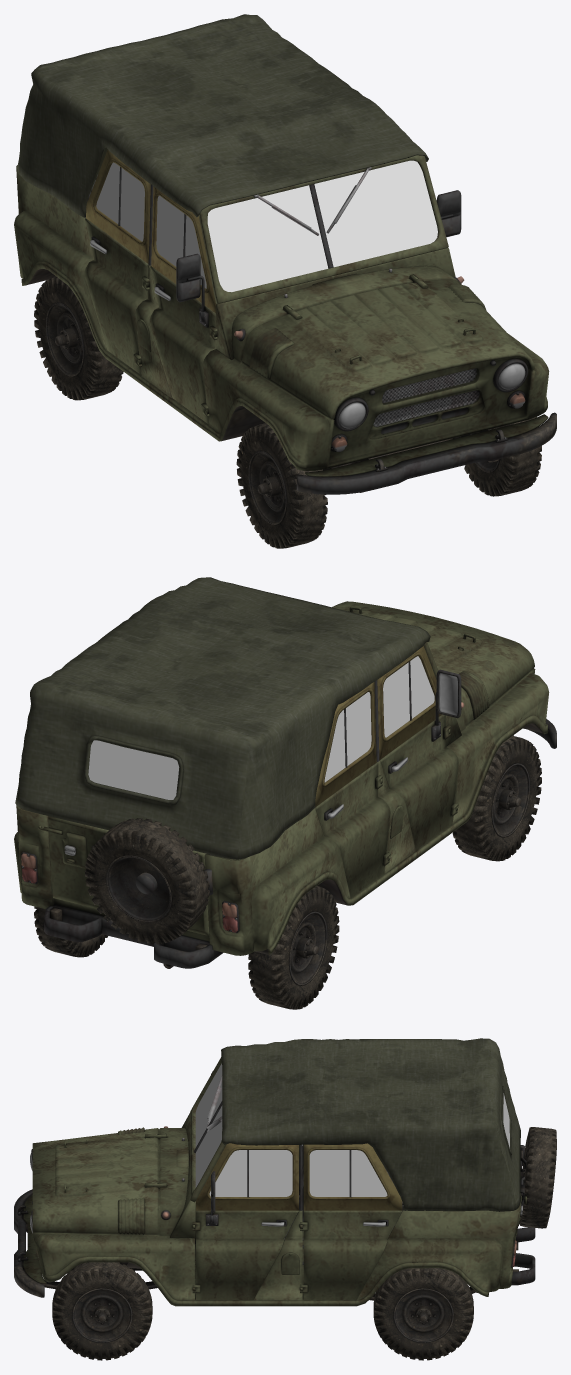
Rendered from uaz469.glb.
3 renders of one model, top to bottom at view 1: azimuth 30°, elevation 25°; view 2: azimuth 150°, elevation 25°; view 3: azimuth 270°, elevation 25°, orthographic. The views are drawn at different scales.
Visible parts, largest first — view 1: u469r, u469r.001, object 2, u469 low tex.003, u wheel.002, u wheel.001, u wheel; view 2: u469r.001, u469r, u wheel.005, object 2, u wheel.001, u wheel.002, u469 low tex.003, u wheel.004; view 3: u469r, u469r.001, object 2, u wheel, u wheel.004, u469 low tex.003, u wheel.005.
Part boxes in pixels (x1,y1,x2,y2): u469r: (14,149,556,494); u469r.001: (17,14,428,217); object 2: (96,160,437,292); u469 low tex.003: (83,147,448,312); u wheel.002: (236,423,327,548); u wheel.001: (34,276,123,400); u wheel: (464,417,541,496); u469r.001: (15,577,430,859); u469r: (14,601,556,968); u wheel.005: (85,818,209,944); object 2: (88,656,434,799); u wheel.001: (248,886,339,1009); u wheel.002: (452,736,541,861); u469 low tex.003: (209,642,441,855); u wheel.004: (34,906,107,957); u469r: (14,1071,535,1306); u469r.001: (221,1038,520,1211); object 2: (195,1063,509,1196); u wheel: (52,1262,152,1360); u wheel.004: (373,1268,473,1360); u469 low tex.003: (190,1057,405,1210); u wheel.005: (519,1127,556,1228).
Bounding box in the file's own units: 1.92 × 1.92 × 4.01.
3 materials, 2 textured.
